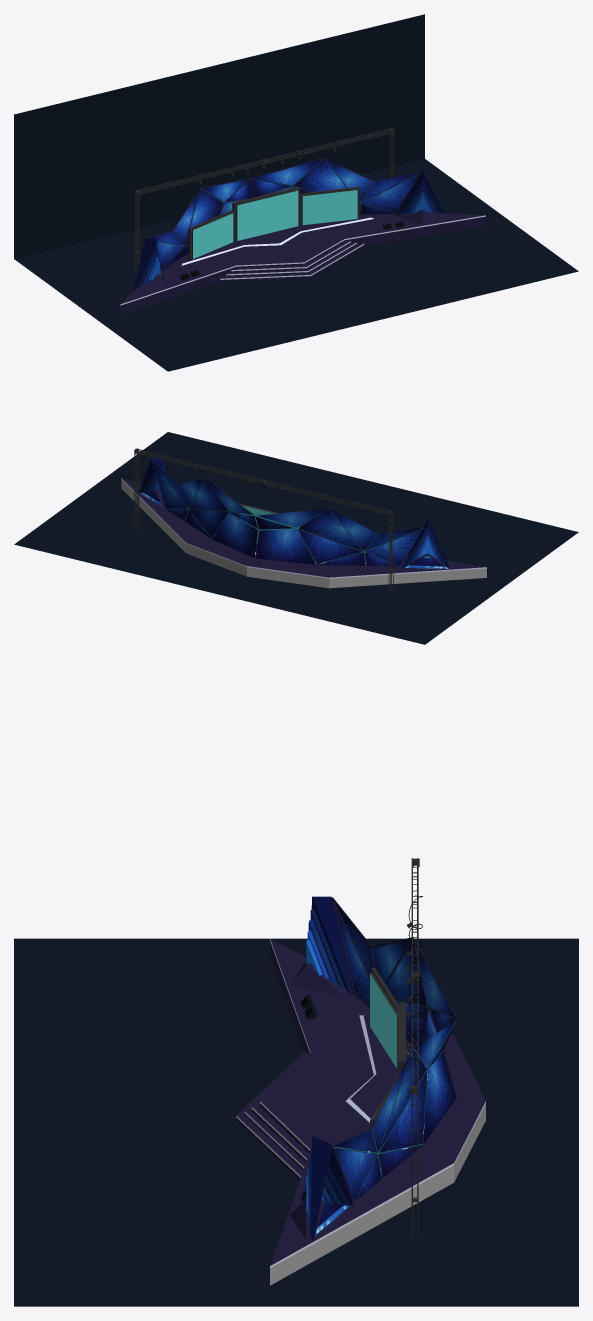
File: 3screens.fbx
3 renders of one model, top to bottom at view 1: azimuth 30°, elevation 25°; view 2: azimuth 150°, elevation 25°; view 3: azimuth 270°, elevation 25°, orthographic. The views are drawn at different scales.
Parts seen in each view (by area): view 1: hall, stagefloor, wall, SCREENS, triangle2, frame_screens, Cylinder_10_10, triangle1, Cylinder_10_9; view 2: hall, wall, stagefloor, triangle1, Cylinder_10_9, Cylinder_10_10, triangle2, SCREENS, frame_screens; view 3: hall, stagefloor, wall, triangle1, triangle2, SCREENS, frame_screens, Cylinder_10_9.
Boxes of the visible parts, left/top/right/bottom form: hall: left=14, top=14, right=578, bottom=371; stagefloor: left=120, top=213, right=485, bottom=314; wall: left=146, top=157, right=422, bottom=270; SCREENS: left=193, top=190, right=357, bottom=258; triangle2: left=396, top=171, right=445, bottom=225; frame_screens: left=188, top=187, right=359, bottom=259; Cylinder_10_10: left=134, top=159, right=266, bottom=273; triangle1: left=133, top=238, right=168, bottom=290; Cylinder_10_9: left=262, top=128, right=394, bottom=177; hall: left=14, top=432, right=578, bottom=644; wall: left=139, top=458, right=445, bottom=568; stagefloor: left=121, top=478, right=486, bottom=588; triangle1: left=401, top=518, right=451, bottom=569; Cylinder_10_9: left=134, top=448, right=266, bottom=531; Cylinder_10_10: left=261, top=479, right=393, bottom=593; triangle2: left=139, top=453, right=168, bottom=510; SCREENS: left=239, top=505, right=299, bottom=543; frame_screens: left=191, top=493, right=361, bottom=560; hall: left=14, top=938, right=578, bottom=1306; stagefloor: left=236, top=939, right=485, bottom=1285; wall: left=313, top=897, right=457, bottom=1239; triangle1: left=290, top=896, right=353, bottom=995; triangle2: left=289, top=1136, right=353, bottom=1240; SCREENS: left=370, top=973, right=396, bottom=1068; frame_screens: left=370, top=968, right=405, bottom=1169; Cylinder_10_9: left=410, top=971, right=418, bottom=1238.
Size of the model in its own units: 566 by 191 by 367.
Materials: 9 (1 with a texture image).
